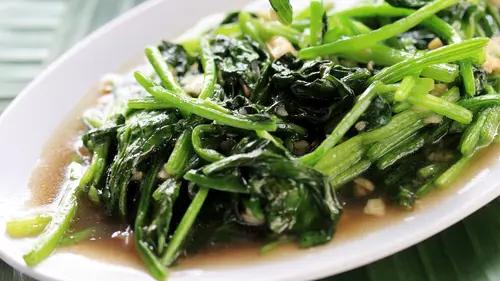buah_sayur_lainnya: (139, 17, 452, 195)
